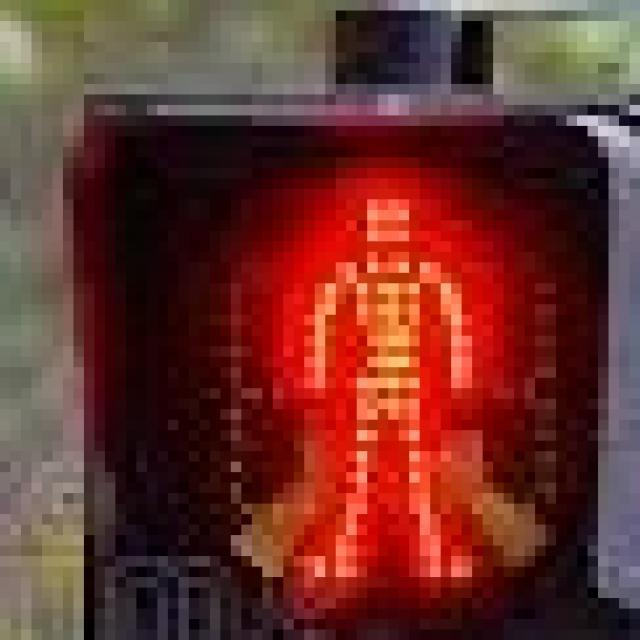red-crossing: (230, 150, 514, 612)
